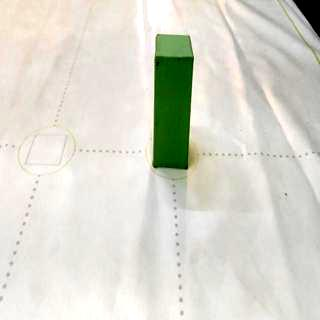greenbox: (153, 29, 195, 168)
